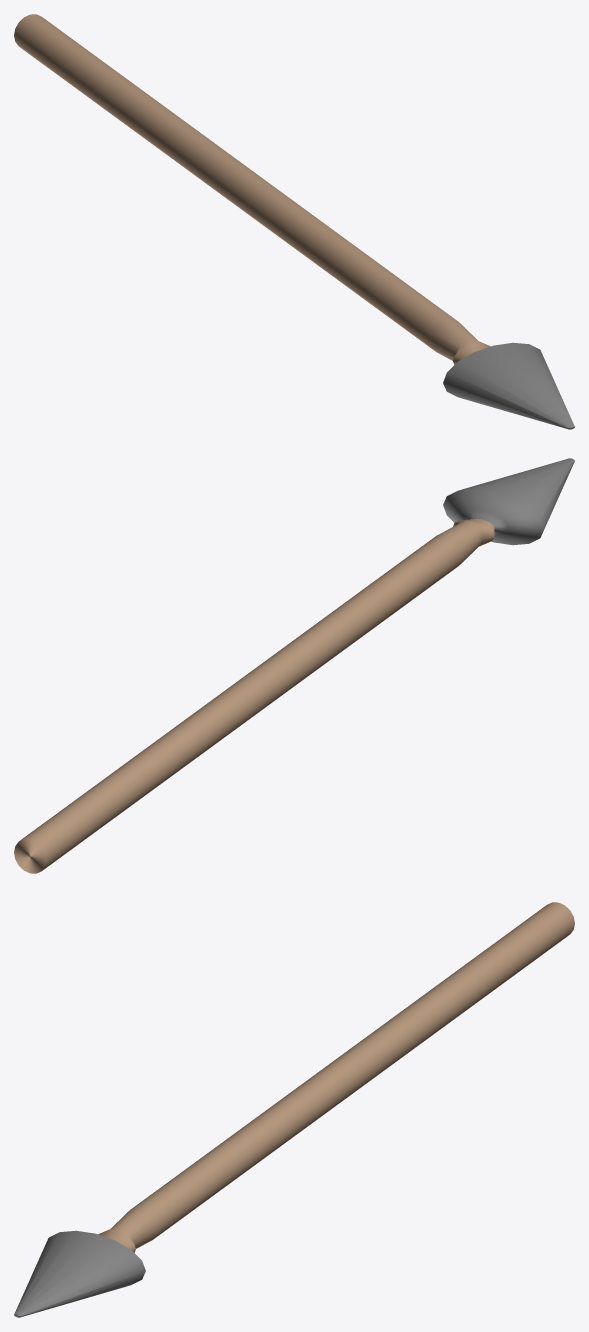
The model's file is Arrow.glb.
3 views of the same model, one above another, from view 1: azimuth 30°, elevation 25°; view 2: azimuth 150°, elevation 25°; view 3: azimuth 330°, elevation 25° (orthographic).
Parts seen in each view (by area): view 1: Cylinder.001; view 2: Cylinder.001; view 3: Cylinder.001.
Boxes of the visible parts, box(x1,y1,x2,y2) form: Cylinder.001: box(14, 14, 574, 429); Cylinder.001: box(14, 458, 574, 873); Cylinder.001: box(14, 902, 574, 1317).
Bounding box in the file's own units: 0.1996 × 0.0949 × 1.85.
